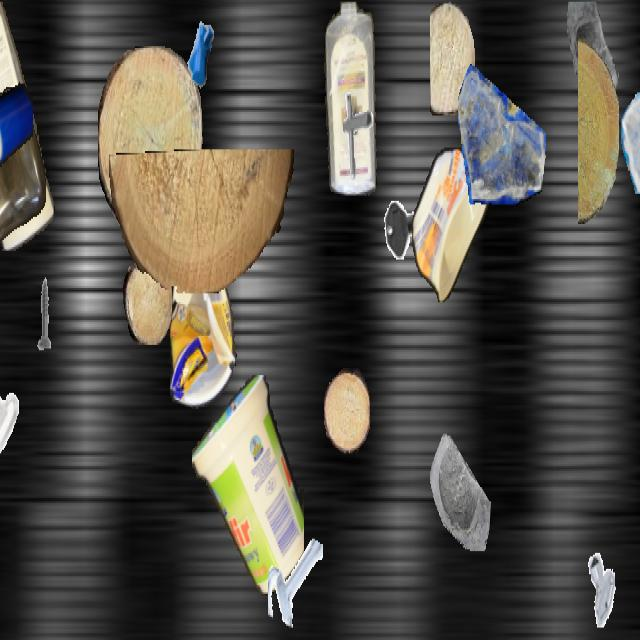glass: (458, 52, 546, 208), (417, 418, 491, 549), (563, 1, 627, 116), (621, 84, 640, 194)
metal: (173, 2, 227, 98), (268, 530, 322, 626), (328, 87, 382, 183), (582, 548, 626, 626), (382, 190, 424, 265), (23, 276, 65, 350), (0, 368, 21, 453)
plastic: (192, 375, 304, 596), (0, 2, 58, 250), (0, 83, 46, 364), (412, 147, 490, 300), (170, 235, 238, 409), (322, 2, 380, 194), (0, 64, 32, 220)
wood: (109, 150, 295, 292), (98, 46, 202, 231), (578, 39, 618, 224), (430, 1, 474, 116), (123, 258, 171, 343), (324, 368, 370, 453)
